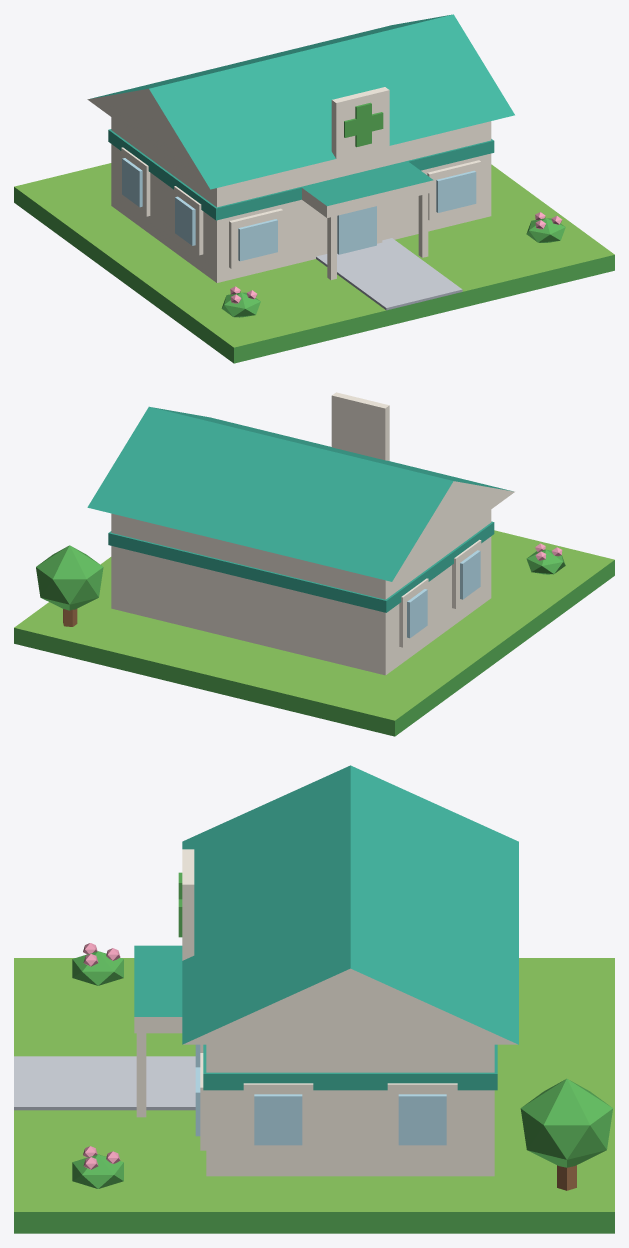
The model's file is public_clinic.glb.
The picture shows the model from 3 angles, top to bottom: view 1: azimuth 30°, elevation 25°; view 2: azimuth 150°, elevation 25°; view 3: azimuth 270°, elevation 25°; orthographic projection. The views are drawn at different scales.
Visible parts, largest first — view 1: public_clinic; view 2: public_clinic; view 3: public_clinic.
Part boxes in pixels (x1,y1,x2,y2): public_clinic: (14,14,614,363); public_clinic: (14,392,614,736); public_clinic: (14,765,614,1233).
Bounding box in the file's own units: 1 × 0.44 × 1.
